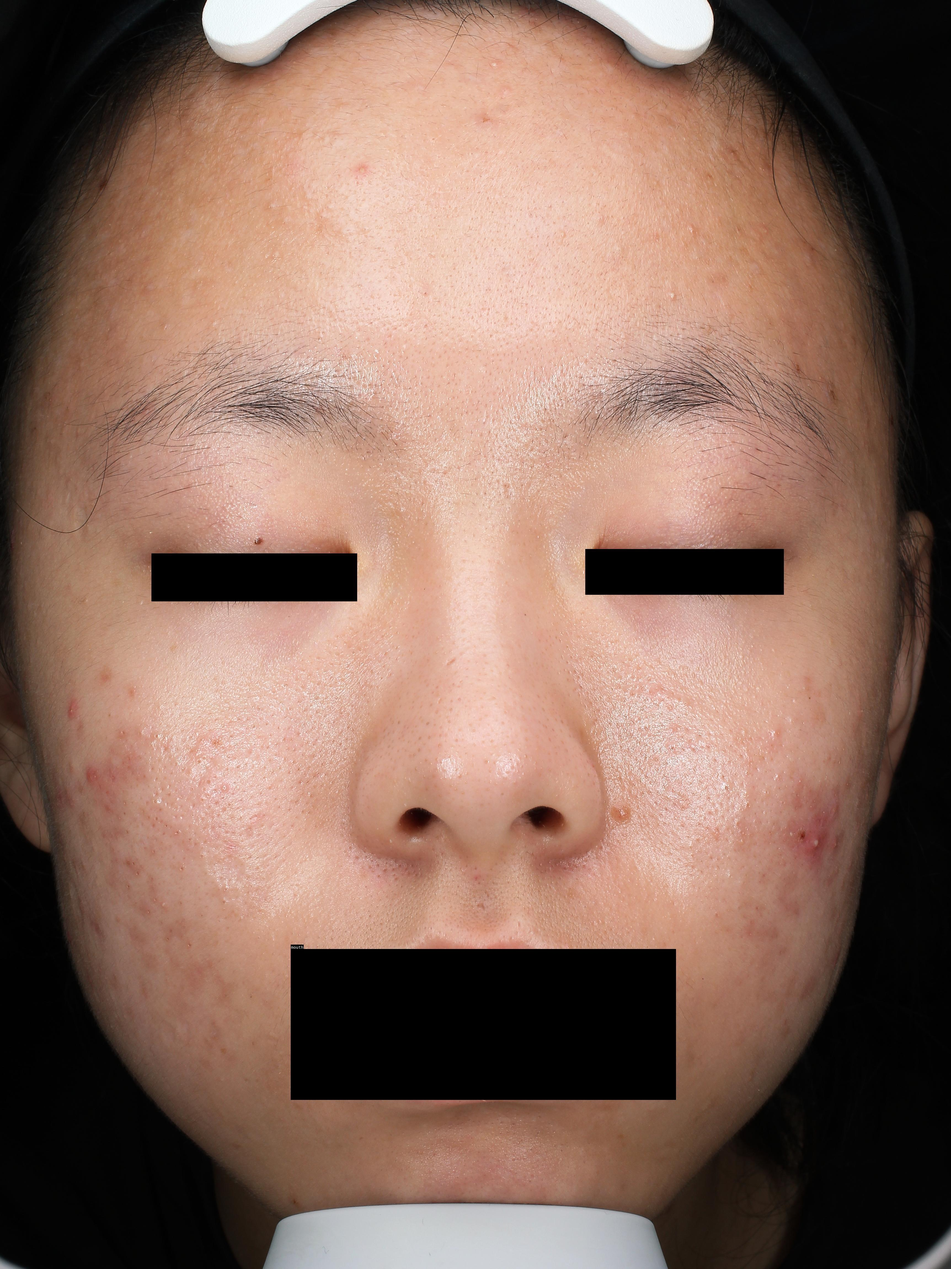atrophic_scar: (204, 841, 248, 911), (502, 481, 512, 502), (240, 827, 255, 841), (475, 900, 486, 914), (444, 656, 457, 666), (516, 919, 522, 930), (111, 773, 116, 784), (437, 697, 442, 705)
closed_comedo: (335, 224, 352, 241), (765, 726, 781, 741), (314, 210, 329, 226), (266, 201, 277, 212), (302, 191, 312, 201), (595, 214, 605, 224), (396, 506, 406, 516), (271, 251, 279, 260), (281, 216, 289, 225), (557, 231, 566, 239), (669, 721, 678, 729), (653, 755, 660, 763), (616, 245, 624, 252), (652, 180, 659, 187), (211, 320, 218, 327), (733, 819, 739, 827), (78, 361, 85, 367), (83, 597, 89, 603), (802, 686, 808, 691), (792, 697, 796, 704), (789, 718, 794, 723)
nevus: (611, 801, 633, 823), (253, 537, 263, 545)
open_comedo: (722, 782, 731, 793), (220, 784, 230, 793), (762, 788, 771, 798), (220, 898, 229, 907), (153, 732, 161, 740), (361, 225, 369, 233), (645, 697, 653, 704), (205, 778, 213, 785), (178, 866, 185, 873), (430, 135, 437, 142), (195, 758, 202, 765), (164, 822, 169, 828), (684, 700, 689, 705), (202, 755, 207, 760), (152, 849, 157, 854), (126, 884, 130, 889), (136, 871, 140, 876), (154, 816, 158, 821), (174, 831, 179, 835), (121, 730, 125, 735), (153, 799, 157, 804), (575, 877, 580, 881), (153, 898, 157, 902), (188, 943, 192, 947), (132, 861, 135, 865), (166, 937, 169, 940)
other: (74, 499, 90, 538), (795, 828, 809, 841)
papule: (85, 768, 96, 783), (830, 836, 840, 850), (688, 224, 697, 235), (833, 951, 840, 965), (830, 803, 838, 815), (68, 703, 76, 715), (501, 86, 511, 95), (512, 1157, 517, 1163)
pustule: (807, 832, 823, 857), (357, 164, 367, 175), (490, 60, 501, 70), (668, 290, 677, 301), (160, 902, 166, 908)
